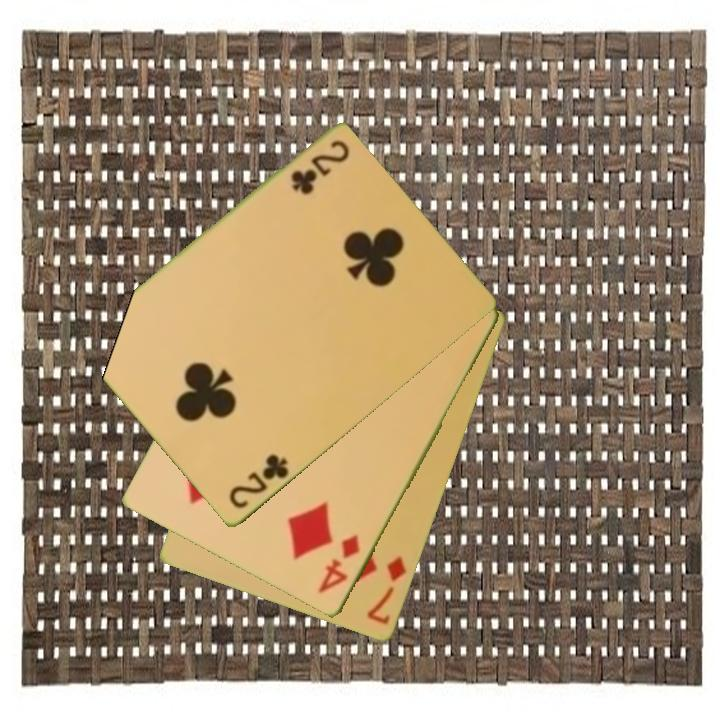2c: (225, 451, 292, 512), (287, 137, 353, 197)
4d: (315, 531, 363, 597)
7d: (364, 553, 410, 628)
